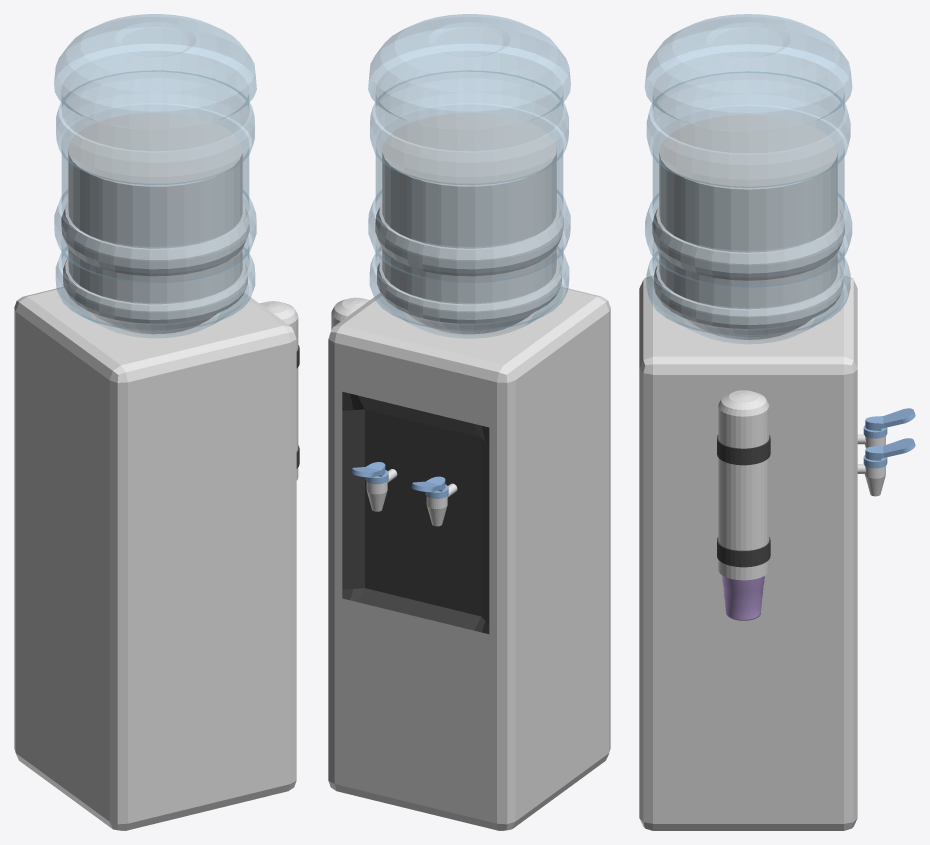
File: water fountain.fbx
3 views of the same model, side by side, from view 1: azimuth 30°, elevation 25°; view 2: azimuth 150°, elevation 25°; view 3: azimuth 270°, elevation 25° (orthographic).
Visible parts, largest first — view 1: Cylinder; view 2: Cylinder; view 3: Cylinder.
Boxes of the visible parts, x1,y1,x2,y2 form: Cylinder: (14,14,299,830); Cylinder: (328,14,610,830); Cylinder: (639,14,915,830).
Bounding box in the file's own units: 249 × 759 × 253.
